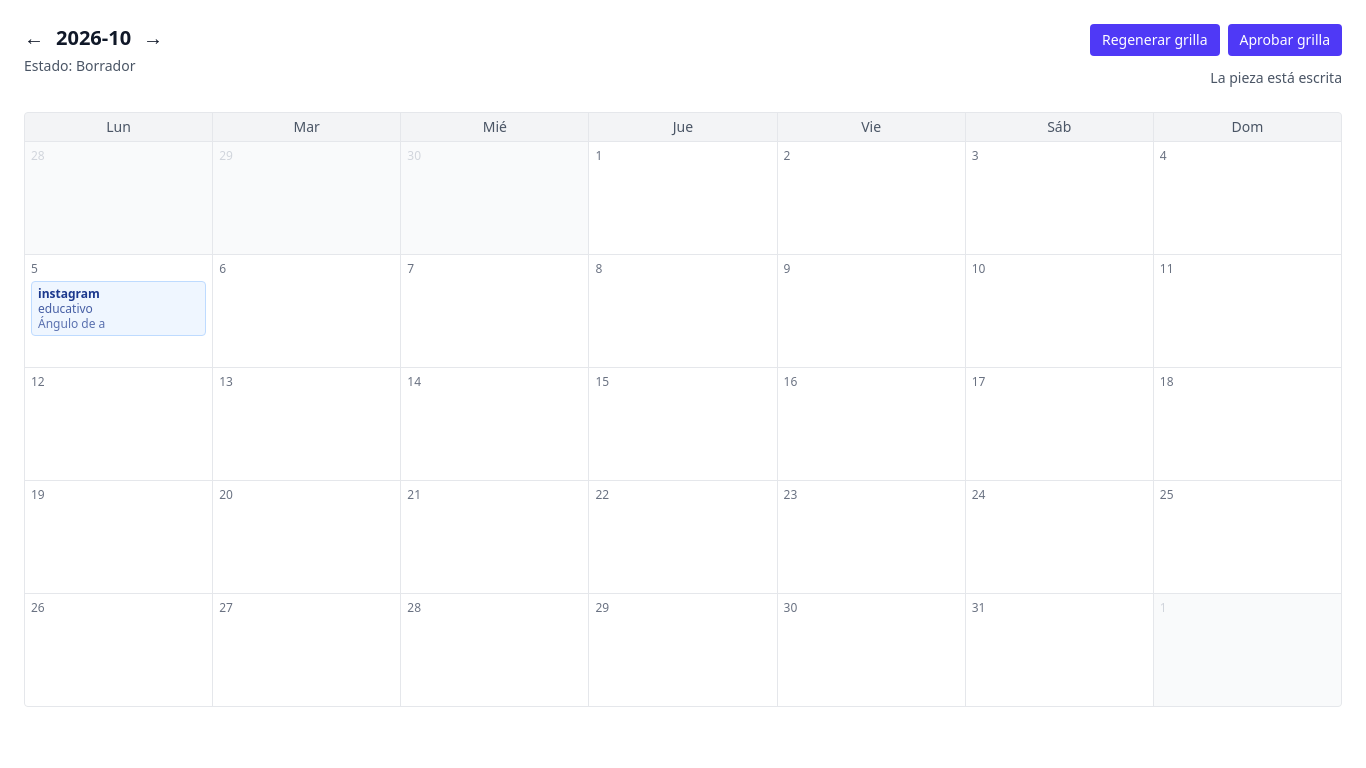
Test: la advertencia de regenerar la grilla › concuerda en singular cuando la pieza escrita es una sola
Click the button "Regenerar grilla". click: (1155, 40)
box: [1090,24,1220,56]
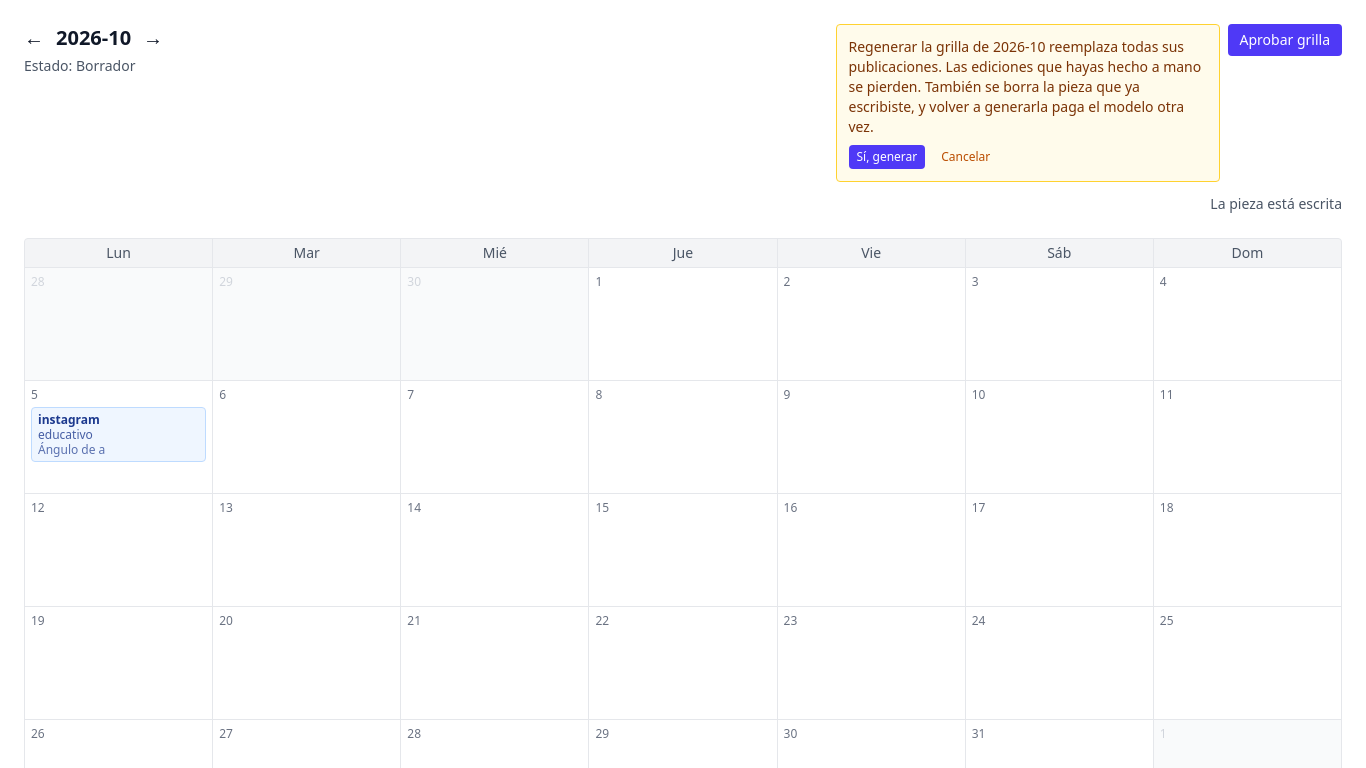
expect the text "También se borra la pieza que ya escribiste, y volver a generarla paga el modelo otra vez." is shown: met, box [848,37,1201,136]
